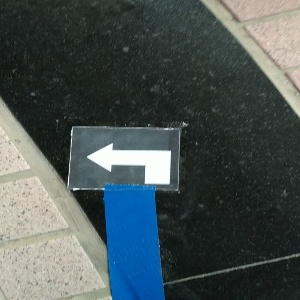left: (67, 126, 182, 190)
